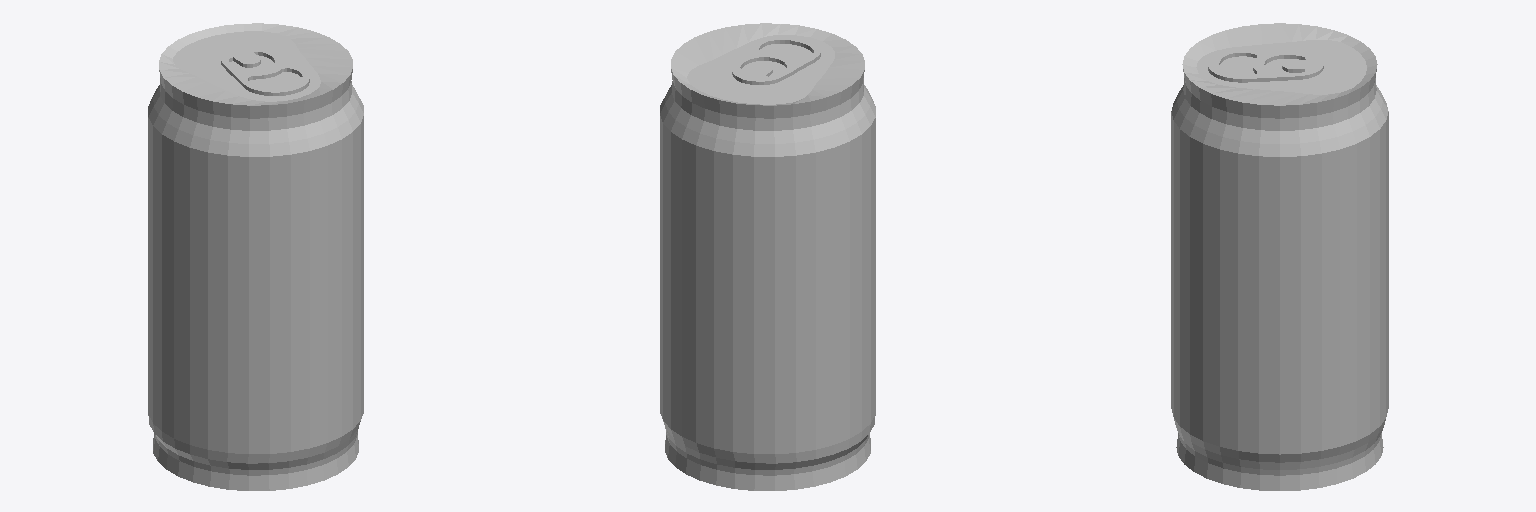
Rendered from can3.obj.
3 views of the same model, side by side, from view 1: azimuth 30°, elevation 25°; view 2: azimuth 150°, elevation 25°; view 3: azimuth 270°, elevation 25° (orthographic).
Parts seen in each view (by area): view 1: Cylinder; view 2: Cylinder; view 3: Cylinder.
Part boxes in pixels (left/top/right/bottom): Cylinder: left=148, top=23, right=363, bottom=490; Cylinder: left=660, top=23, right=875, bottom=490; Cylinder: left=1171, top=23, right=1388, bottom=490.
Size of the model in its own units: 6.44 by 12.54 by 6.44.